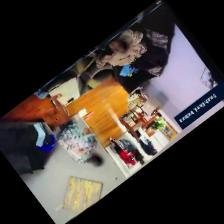person: (37, 94, 102, 166), (108, 137, 134, 165), (119, 139, 143, 164)
